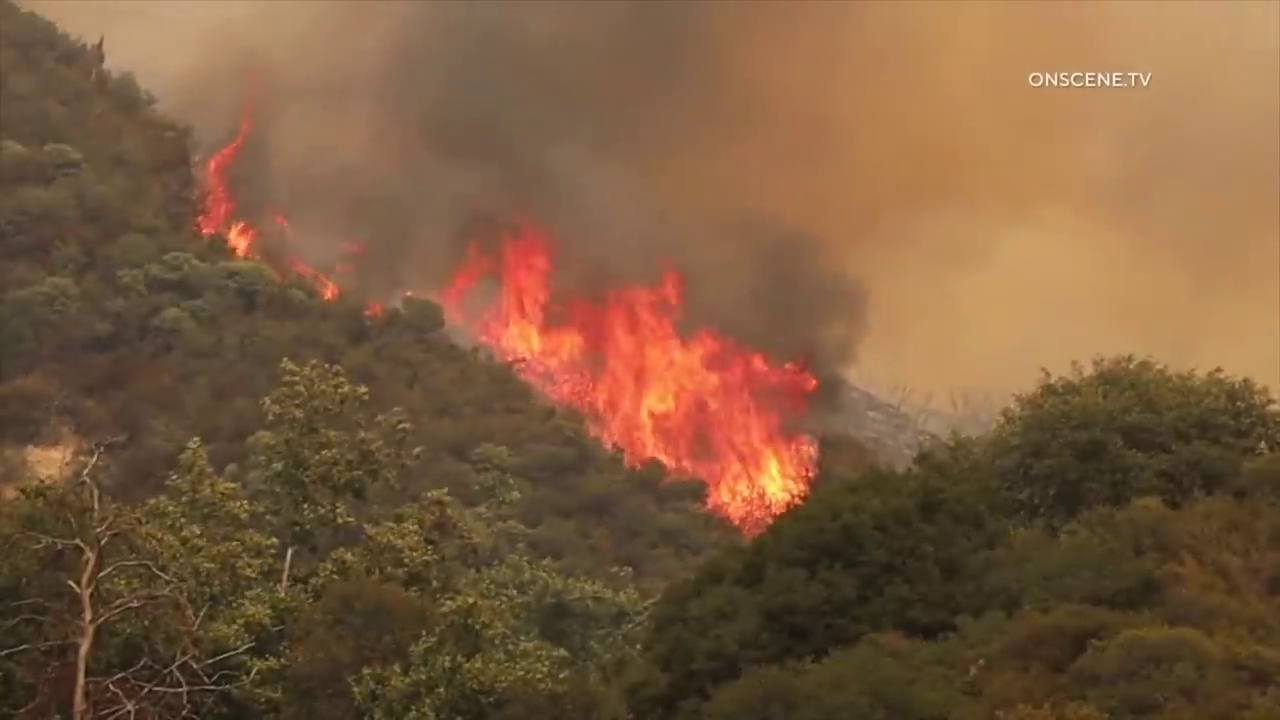forest_fire: (432, 222, 815, 532), (197, 111, 261, 257), (270, 256, 351, 299), (272, 211, 286, 229), (368, 302, 382, 313), (349, 247, 359, 256)
